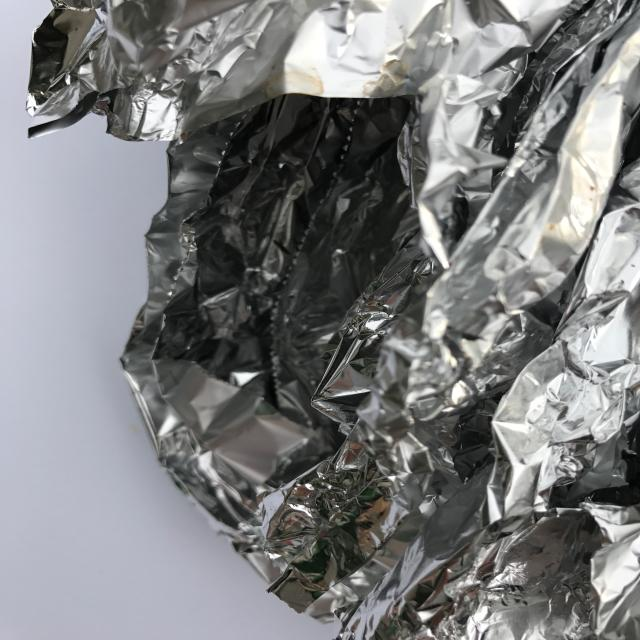metal: (26, 1, 638, 638)
